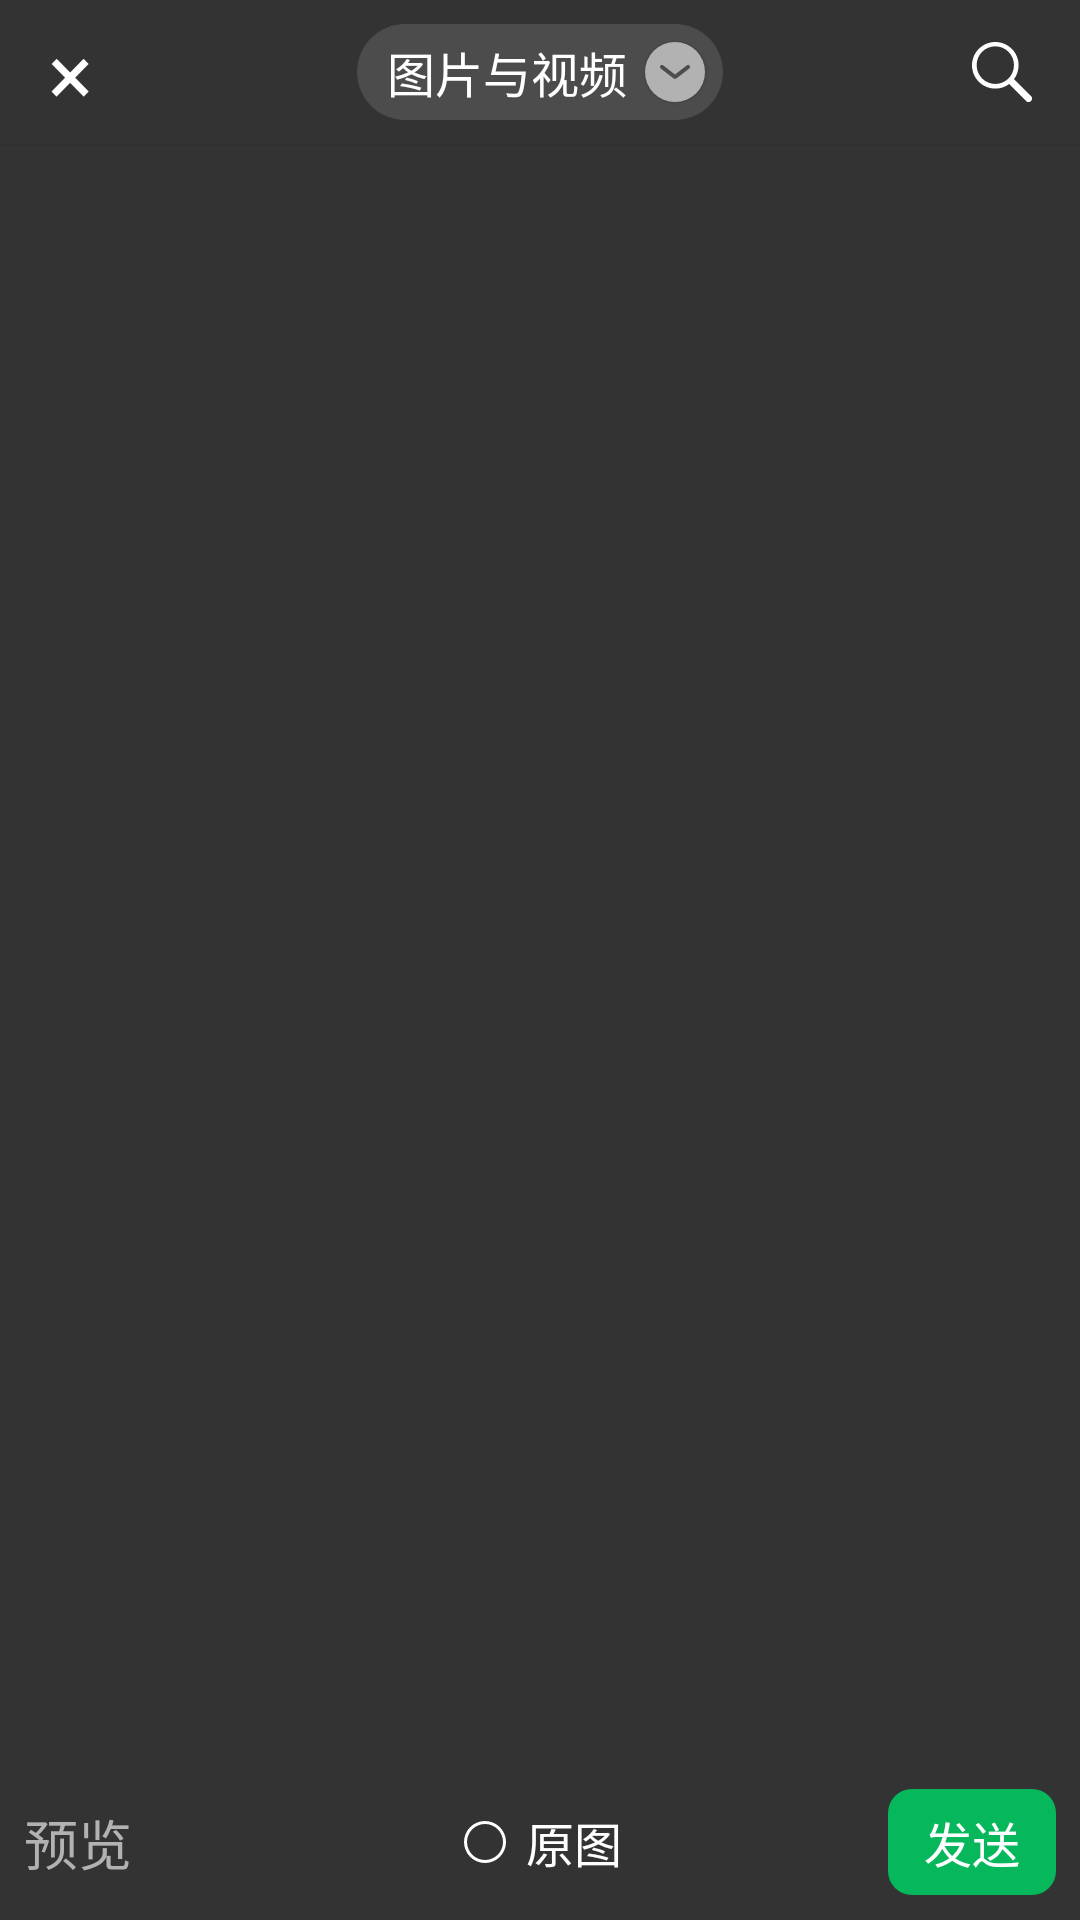

Icons on this 1080px×1920px Android screen, each with the point to tap as (x=x, y=y):
arrow: (x=675, y=72)
search: (x=1002, y=72)
